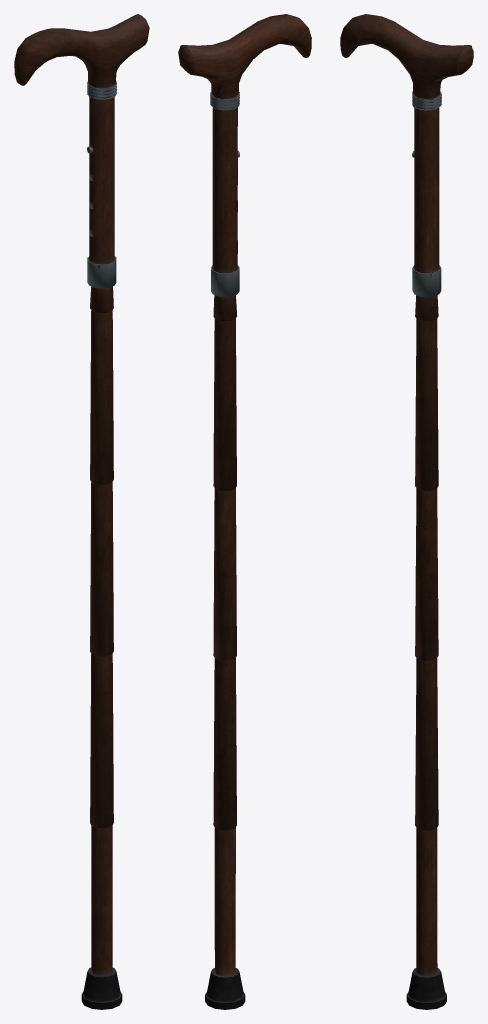
Rendered from bastone.fbx.
The picture shows the model from 3 angles, left to right: view 1: azimuth 30°, elevation 25°; view 2: azimuth 210°, elevation 25°; view 3: azimuth 330°, elevation 25°; orthographic projection.
Visible parts, largest first — view 1: bastone; view 2: bastone; view 3: bastone.
Part boxes in pixels (x1=…): bastone: x1=14, y1=14, x2=149, y2=1009; bastone: x1=178, y1=14, x2=311, y2=1009; bastone: x1=340, y1=14, x2=473, y2=1009.
Bounding box in the file's own units: 28.03 × 204 × 7.68.
